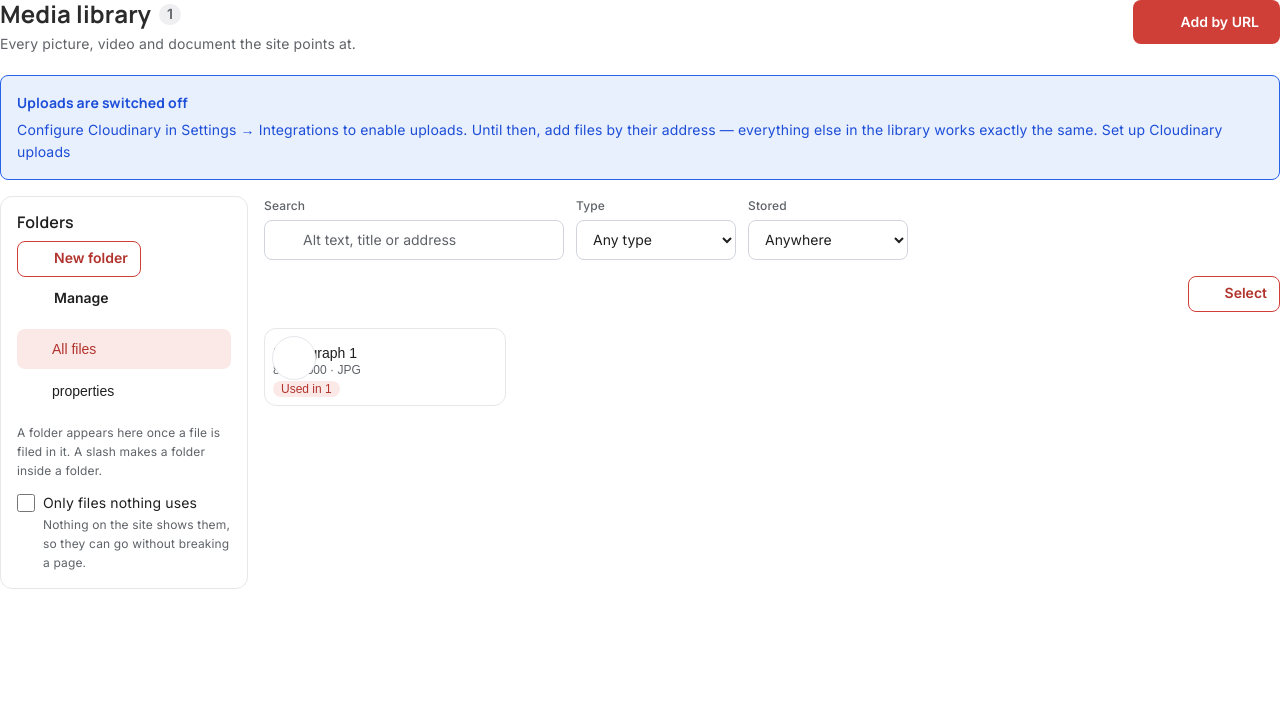
Test: the drawer › takes the in-use warning away with the box it points at
The image size is (1280, 720).
Click the button "Photograph 1 800 × 600 · JPG Used in 1" at (385, 366), box [264,328,506,406]
(page scrolled)
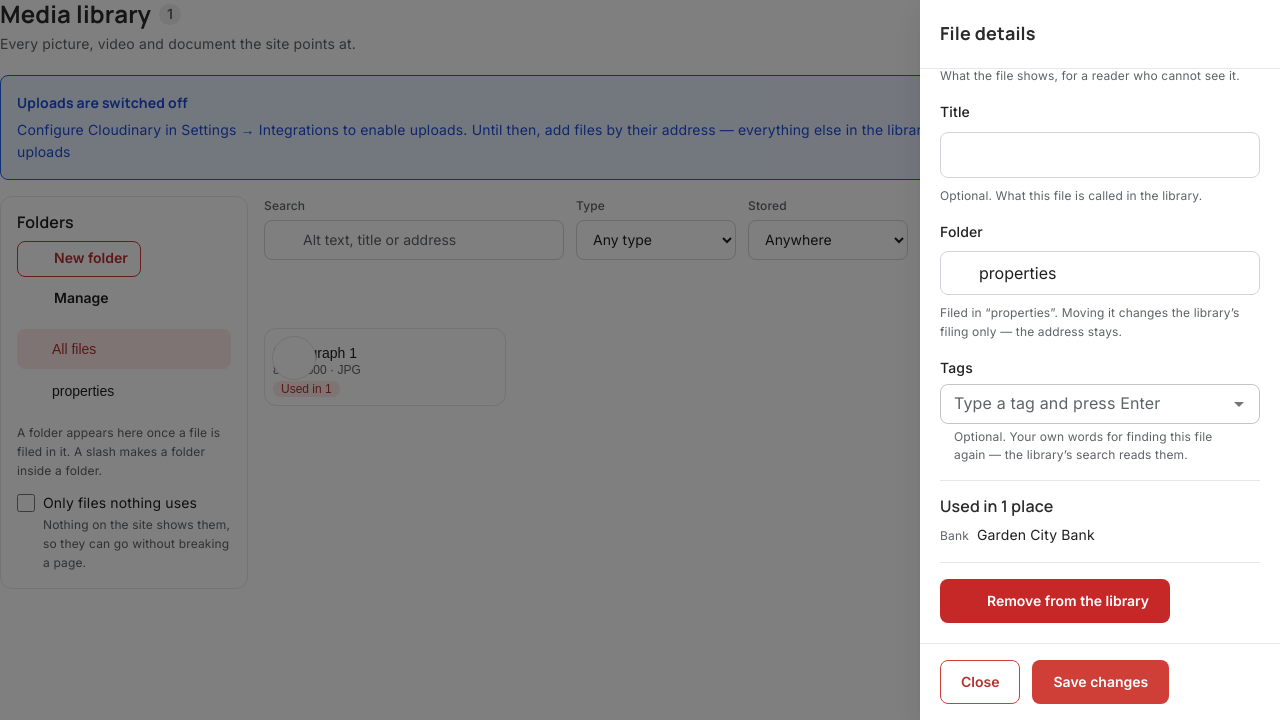
Click the button "Remove from the library" at (1055, 601), box [940,579,1170,623]
(page scrolled)
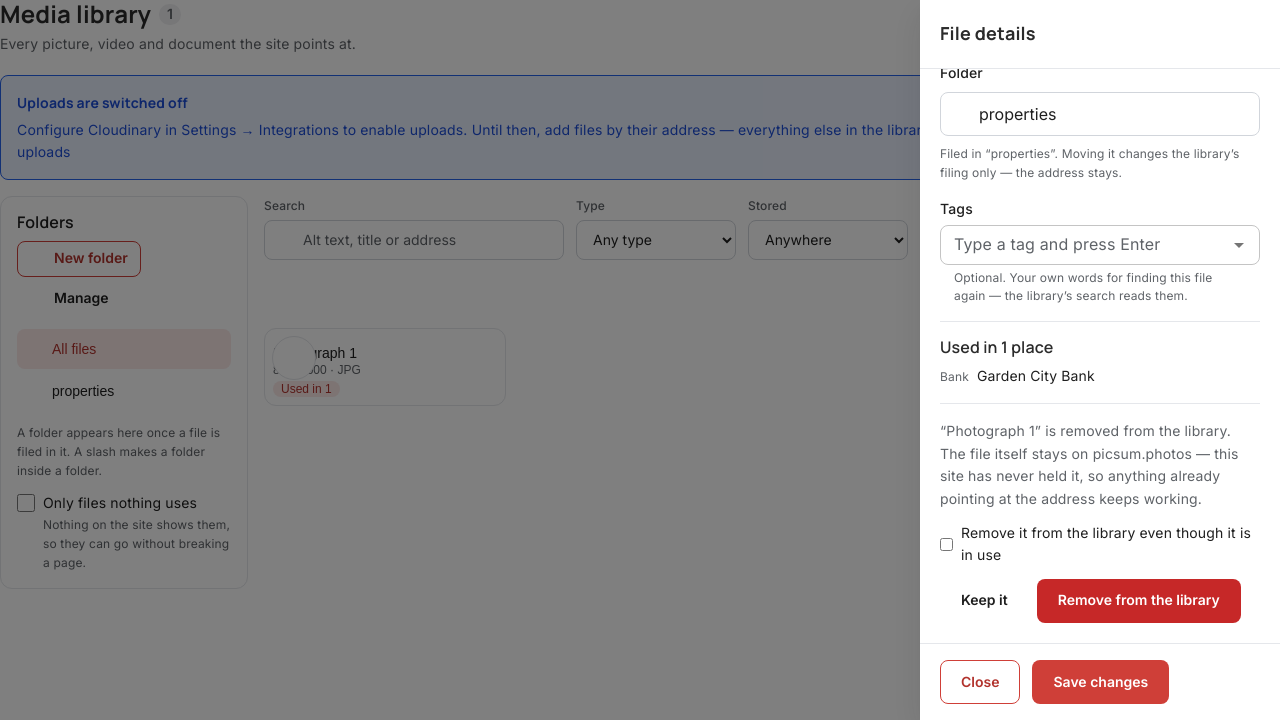
Click the button "Remove from the library" at (1139, 601), box [1037,579,1241,623]
(page scrolled)
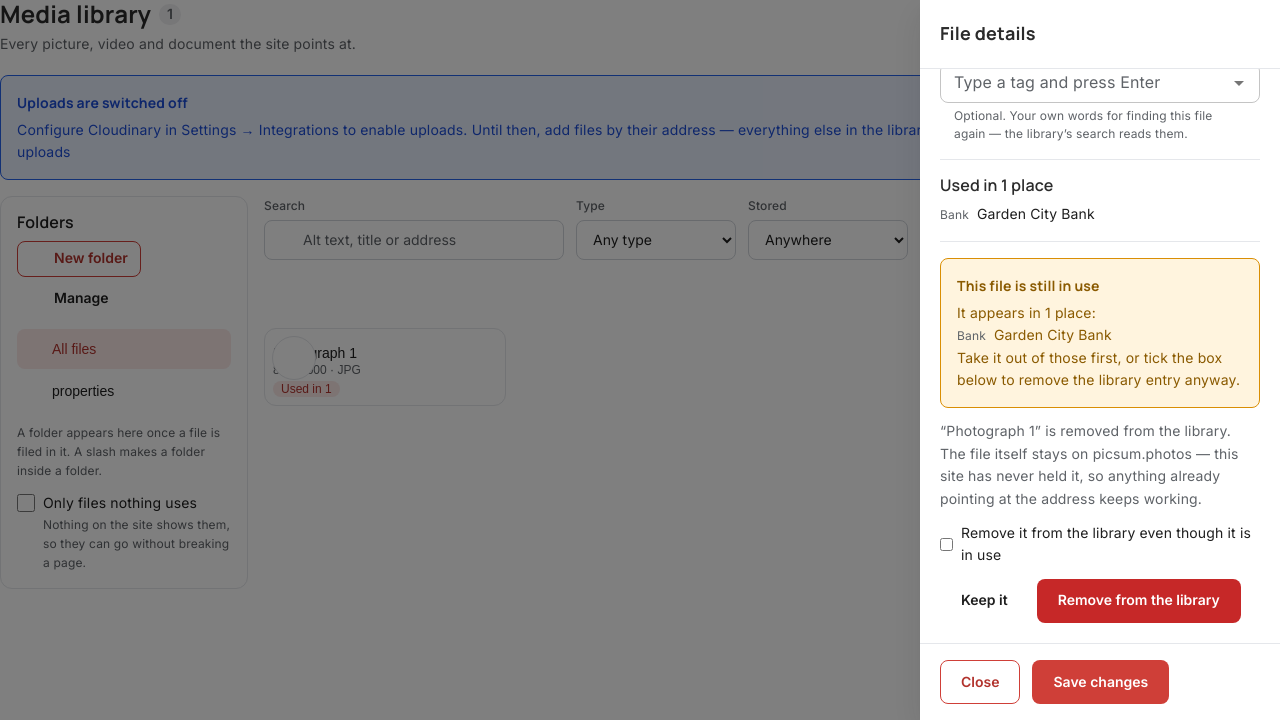
Now the text "This file is still in use" is shown, box [957,276,1100,295]
Now the text "It appears in 1 place:" is shown, box [957,304,1096,321]
Click the button "Keep it" at (984, 601), box [940,579,1029,623]
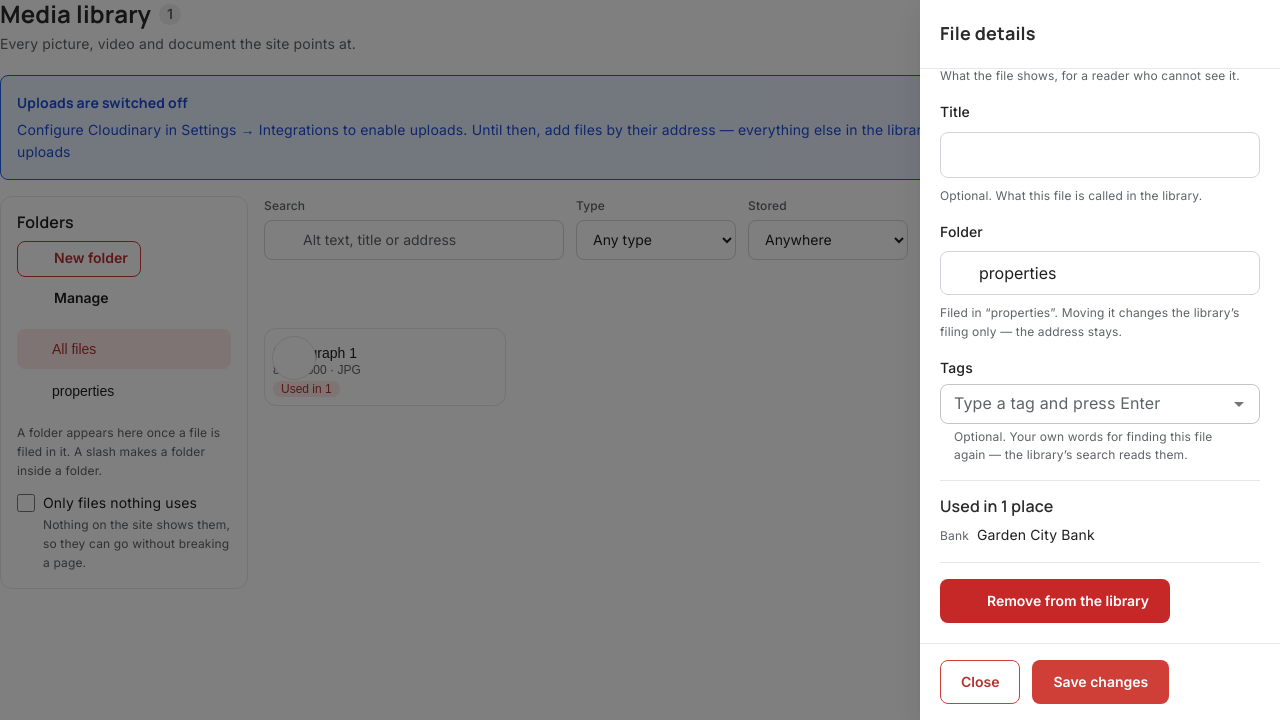
Now the text "This file is still in use" is gone
